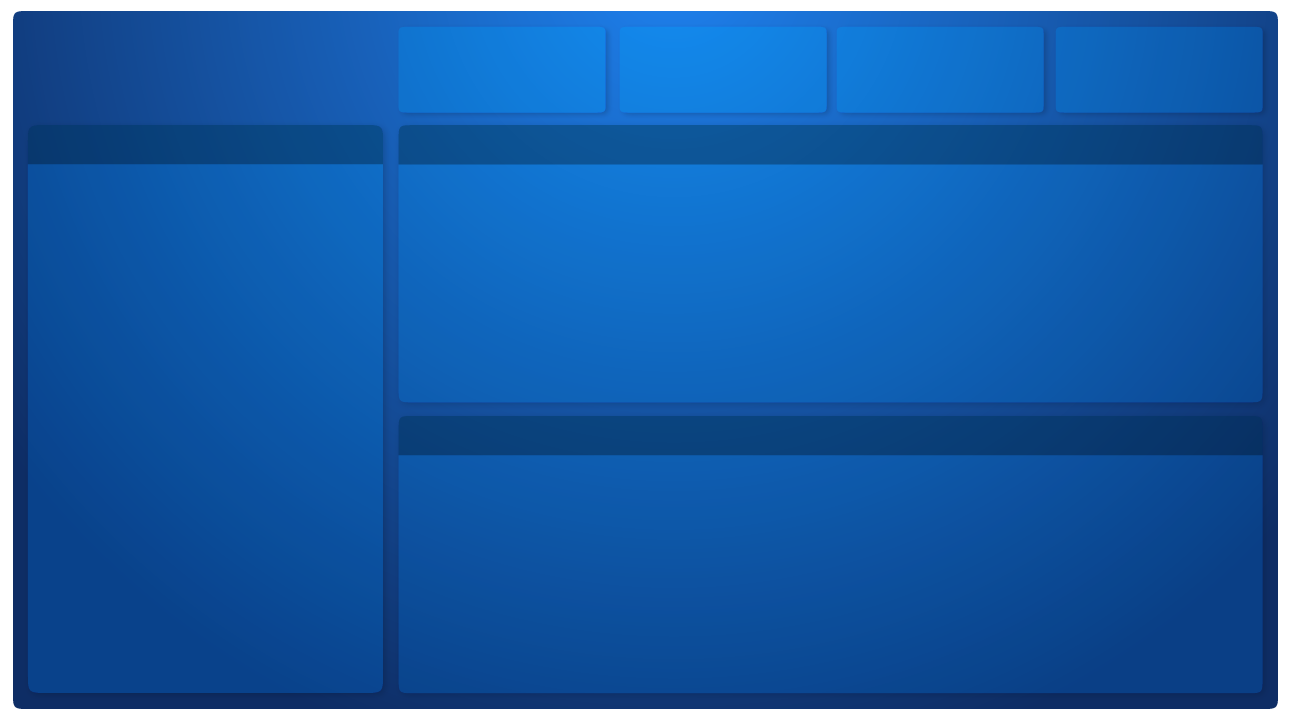

The dashboard page shown, as its layout file describes it:
{"tool":"powerbi","page":{"name":"Página 1","canvas":[1290,720],"ordinal":0},"visuals":[{"type":"simpleImageEBC4593F96F1425FB3D84C5BF02B5075","fields":{"imageURL":["tObras.ObraURL"]},"box":[36.3,170.6,340.1,509.7],"z":0},{"type":"slicer","fields":{"Values":["tObras.ObraNome"]},"box":[402.9,28.4,200.9,78.4],"z":1},{"type":"card","fields":{"Values":["Min(tObras.ObraNome)"]},"box":[85.3,120.6,280.3,42.2],"z":2},{"type":"image","box":[47.1,120.6,79.4,42.2],"z":3},{"type":"clusteredColumnChart","fields":{"Category":["tCalendario.Nome Mês"],"Y":["Sum(tObrasConsolidadas.Custo Planejado)","Sum(tObrasConsolidadas.Custo Real)"]},"box":[402.9,170.6,853.8,224.5],"z":4},{"type":"textbox","box":[474.4,120.6,251.9,42.2],"z":5},{"type":"image","box":[417.6,120.6,67.6,42.2],"z":6},{"type":"lineClusteredColumnComboChart","fields":{"Category":["tCalendario.Nome Mês"],"Y":["Medidas.Soma Planejado","Medidas.Soma Real"],"Y2":["Medidas.Soma Acum. Plan","Medidas.Soma Acum. Real"]},"box":[402.9,458.8,853.8,228.4],"z":7},{"type":"textbox","box":[474.4,410.7,251.9,42.2],"z":8},{"type":"image","box":[417.6,410.7,56.9,42.2],"z":9}]}

Visuals, with their boxes in screenshot pixels (x1, y1, x2, y2), scaled from the page's 1290x720 canvas onto the 1290x720 screenshot:
simpleImageEBC4593F96F1425FB3D84C5BF02B5075 - tObras.ObraURL: locate(36, 171, 376, 680)
slicer - tObras.ObraNome: locate(403, 28, 604, 107)
card - Min(tObras.ObraNome): locate(85, 121, 366, 163)
image: locate(47, 121, 126, 163)
clusteredColumnChart - tCalendario.Nome Mês x Sum(tObrasConsolidadas.Custo Planejado): locate(403, 171, 1257, 395)
textbox: locate(474, 121, 726, 163)
image: locate(418, 121, 485, 163)
lineClusteredColumnComboChart - tCalendario.Nome Mês x Medidas.Soma Planejado: locate(403, 459, 1257, 687)
textbox: locate(474, 411, 726, 453)
image: locate(418, 411, 474, 453)
